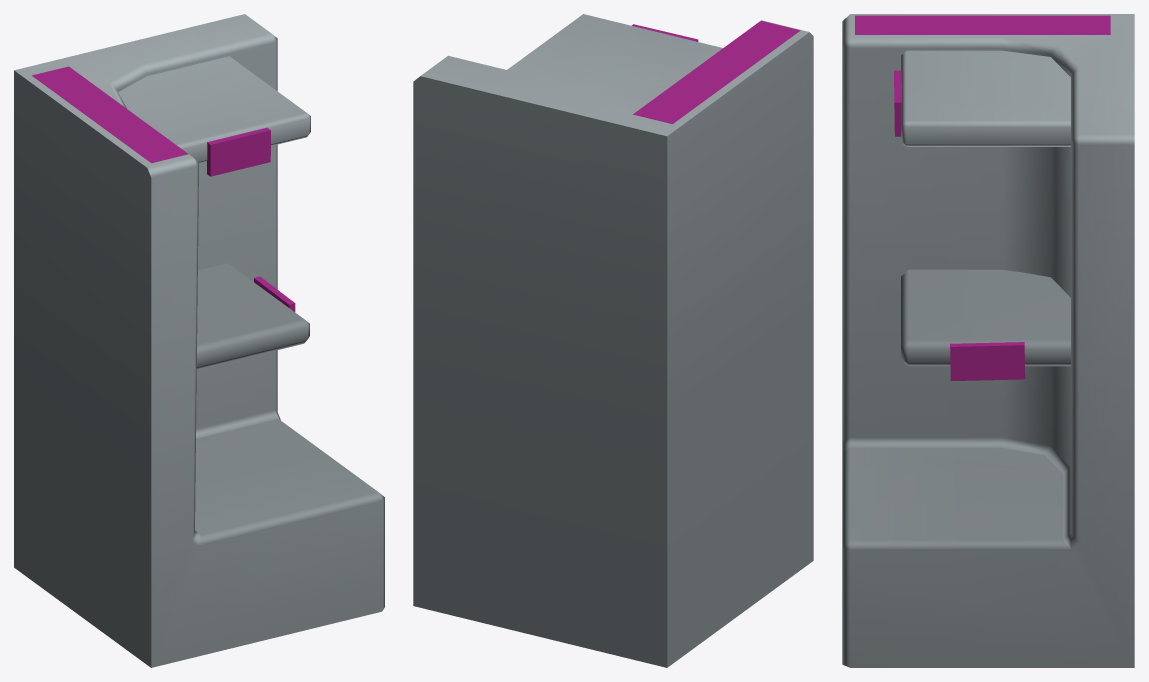
The model's file is StellaCorner_01.fbx.
The picture shows the model from 3 angles, left to right: view 1: azimuth 30°, elevation 25°; view 2: azimuth 150°, elevation 25°; view 3: azimuth 270°, elevation 25°; orthographic projection. The views are drawn at different scales.
Parts seen in each view (by area): view 1: polySurface19, polySurface17; view 2: polySurface19, polySurface17; view 3: polySurface19, polySurface17.
Boxes of the visible parts, left/top/right/bottom form: polySurface19: left=14, top=14, right=384, bottom=667; polySurface17: left=32, top=66, right=295, bottom=311; polySurface19: left=413, top=14, right=813, bottom=667; polySurface17: left=632, top=20, right=800, bottom=123; polySurface19: left=842, top=14, right=1134, bottom=667; polySurface17: left=855, top=15, right=1110, bottom=380.
Size of the model in its own units: 100 by 100 by 201.
